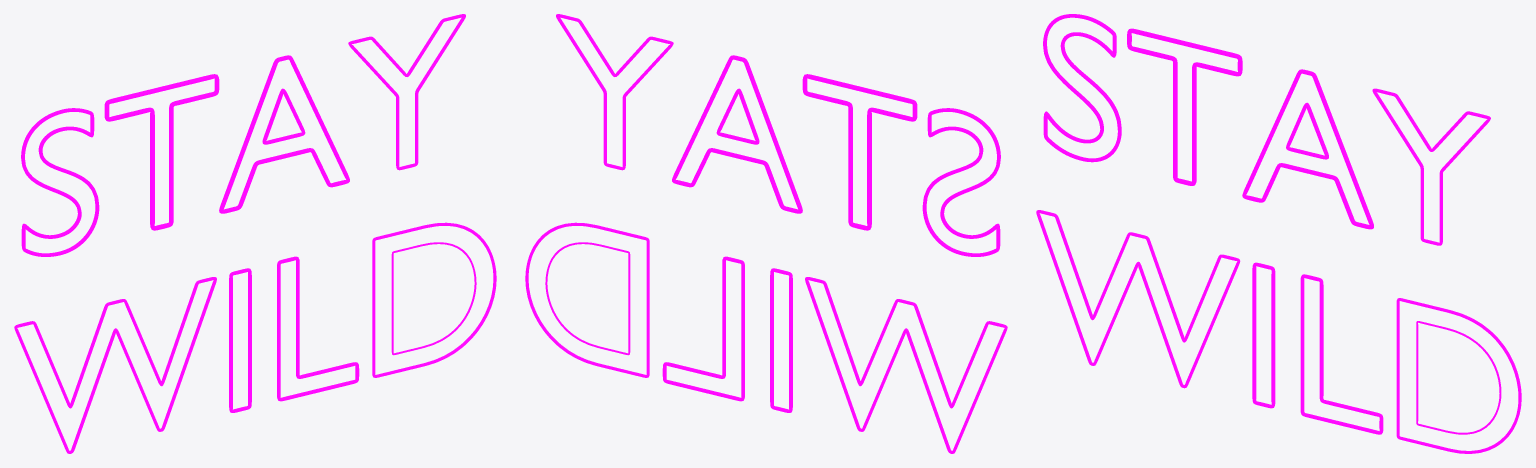
The model's file is staywild.fbx.
3 views of the same model, side by side, from view 1: azimuth 30°, elevation 25°; view 2: azimuth 150°, elevation 25°; view 3: azimuth 330°, elevation 25° (orthographic).
Parts seen in each view (by area): view 1: stay wild; view 2: stay wild; view 3: stay wild.
Boxes of the visible parts, box(x1,y1,x2,y2) form: stay wild: box(14, 14, 496, 453); stay wild: box(525, 14, 1007, 453); stay wild: box(1036, 14, 1521, 453).
Bounding box in the file's own units: 315 × 216 × 2.74.
